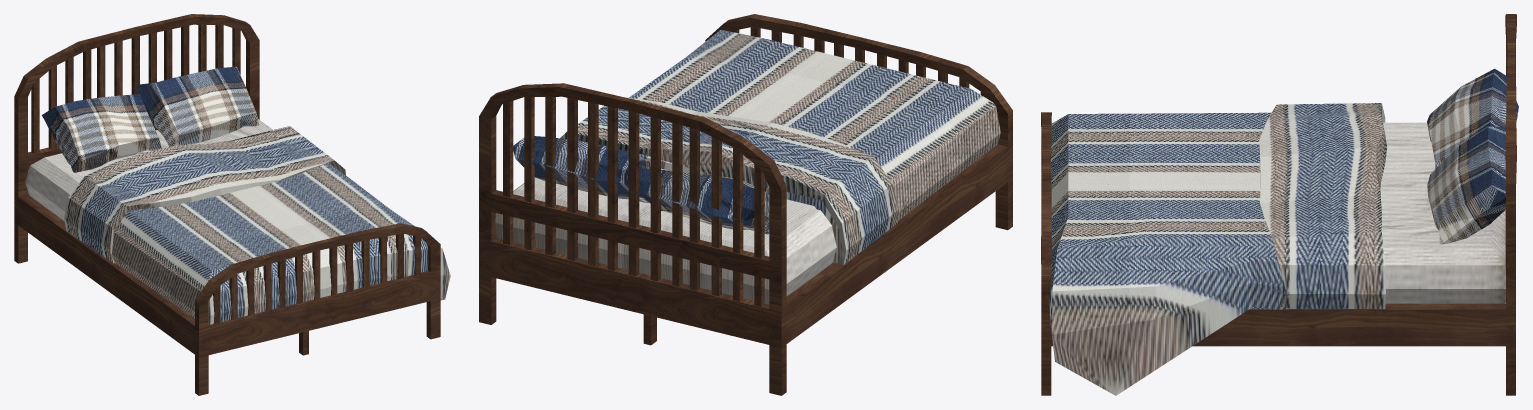
Rendered from bed.fbx.
The picture shows the model from 3 angles, left to right: view 1: azimuth 30°, elevation 25°; view 2: azimuth 150°, elevation 25°; view 3: azimuth 270°, elevation 25°; orthographic projection. The views are drawn at different scales.
Visible parts, largest first — view 1: Pillow Top_001; view 2: Pillow Top_001; view 3: Pillow Top_001.
Part boxes in pixels (bbox=[...]): Pillow Top_001: bbox=[14, 14, 450, 395]; Pillow Top_001: bbox=[479, 14, 1012, 395]; Pillow Top_001: bbox=[1041, 14, 1518, 395].
Size of the model in its own units: 433 by 324 by 533.
